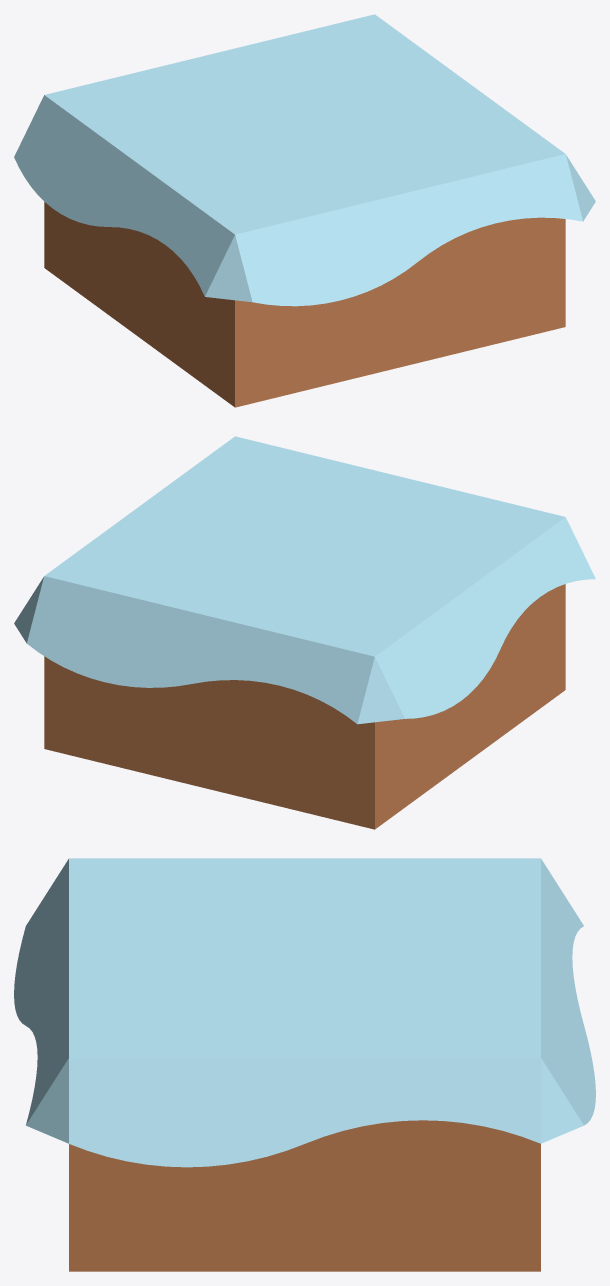
The model's file is blockSnowHalf.dae.
3 views of the same model, one above another, from view 1: azimuth 30°, elevation 25°; view 2: azimuth 150°, elevation 25°; view 3: azimuth 270°, elevation 25° (orthographic). The views are drawn at different scales.
Visible parts, largest first — view 1: blockSnowHalf; view 2: blockSnowHalf; view 3: blockSnowHalf.
Part boxes in pixels (x1,y1,x2,y2): blockSnowHalf: (14, 14, 595, 407); blockSnowHalf: (14, 436, 595, 829); blockSnowHalf: (14, 858, 595, 1271).
Bounding box in the file's own units: 1.23 × 0.5 × 1.23.
